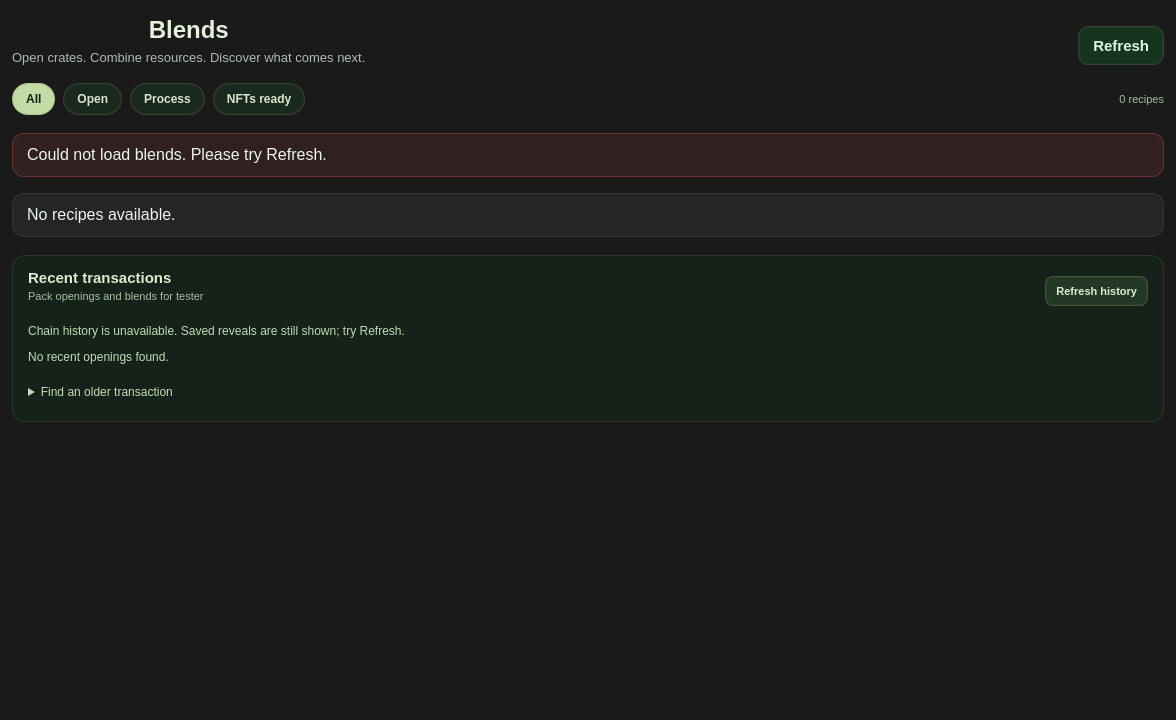
Test case: failed loading can be retried
Expected: the message "Could not load blends. Please try Refresh." is shown, [12, 133, 1164, 177]
Click the button "Refresh". click: (1121, 46)
box: [1078, 26, 1164, 65]
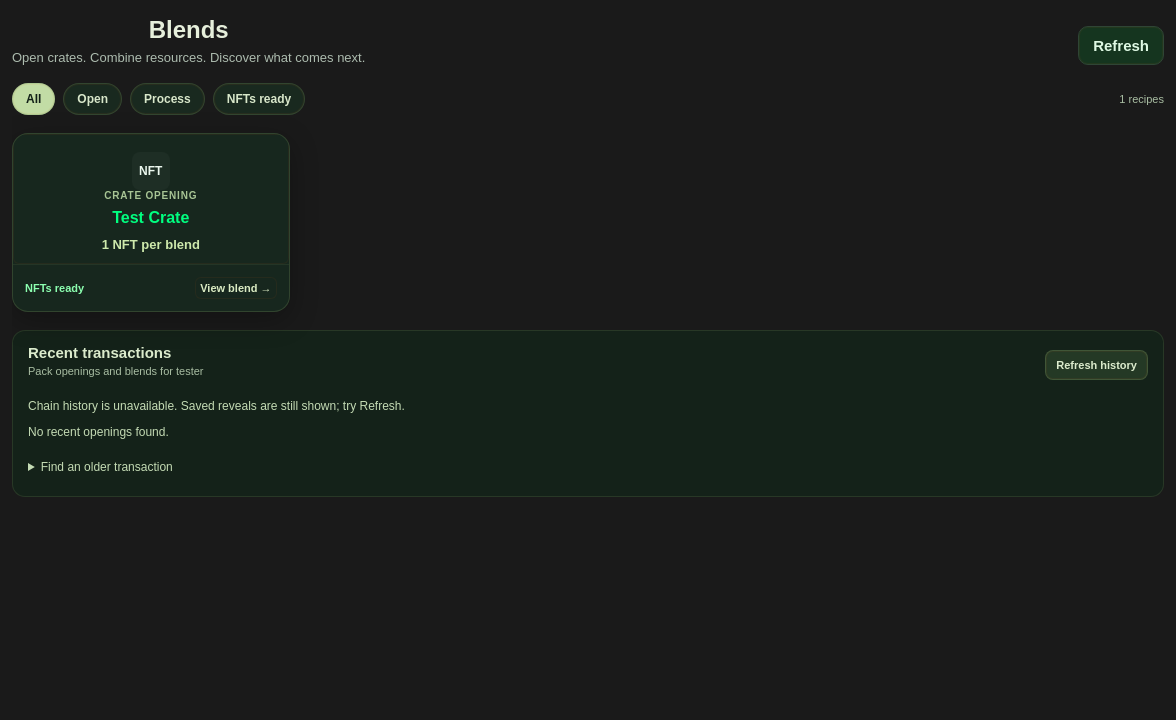
Now the button with aria-label "View Test Crate" is shown, box [13, 134, 288, 264]
